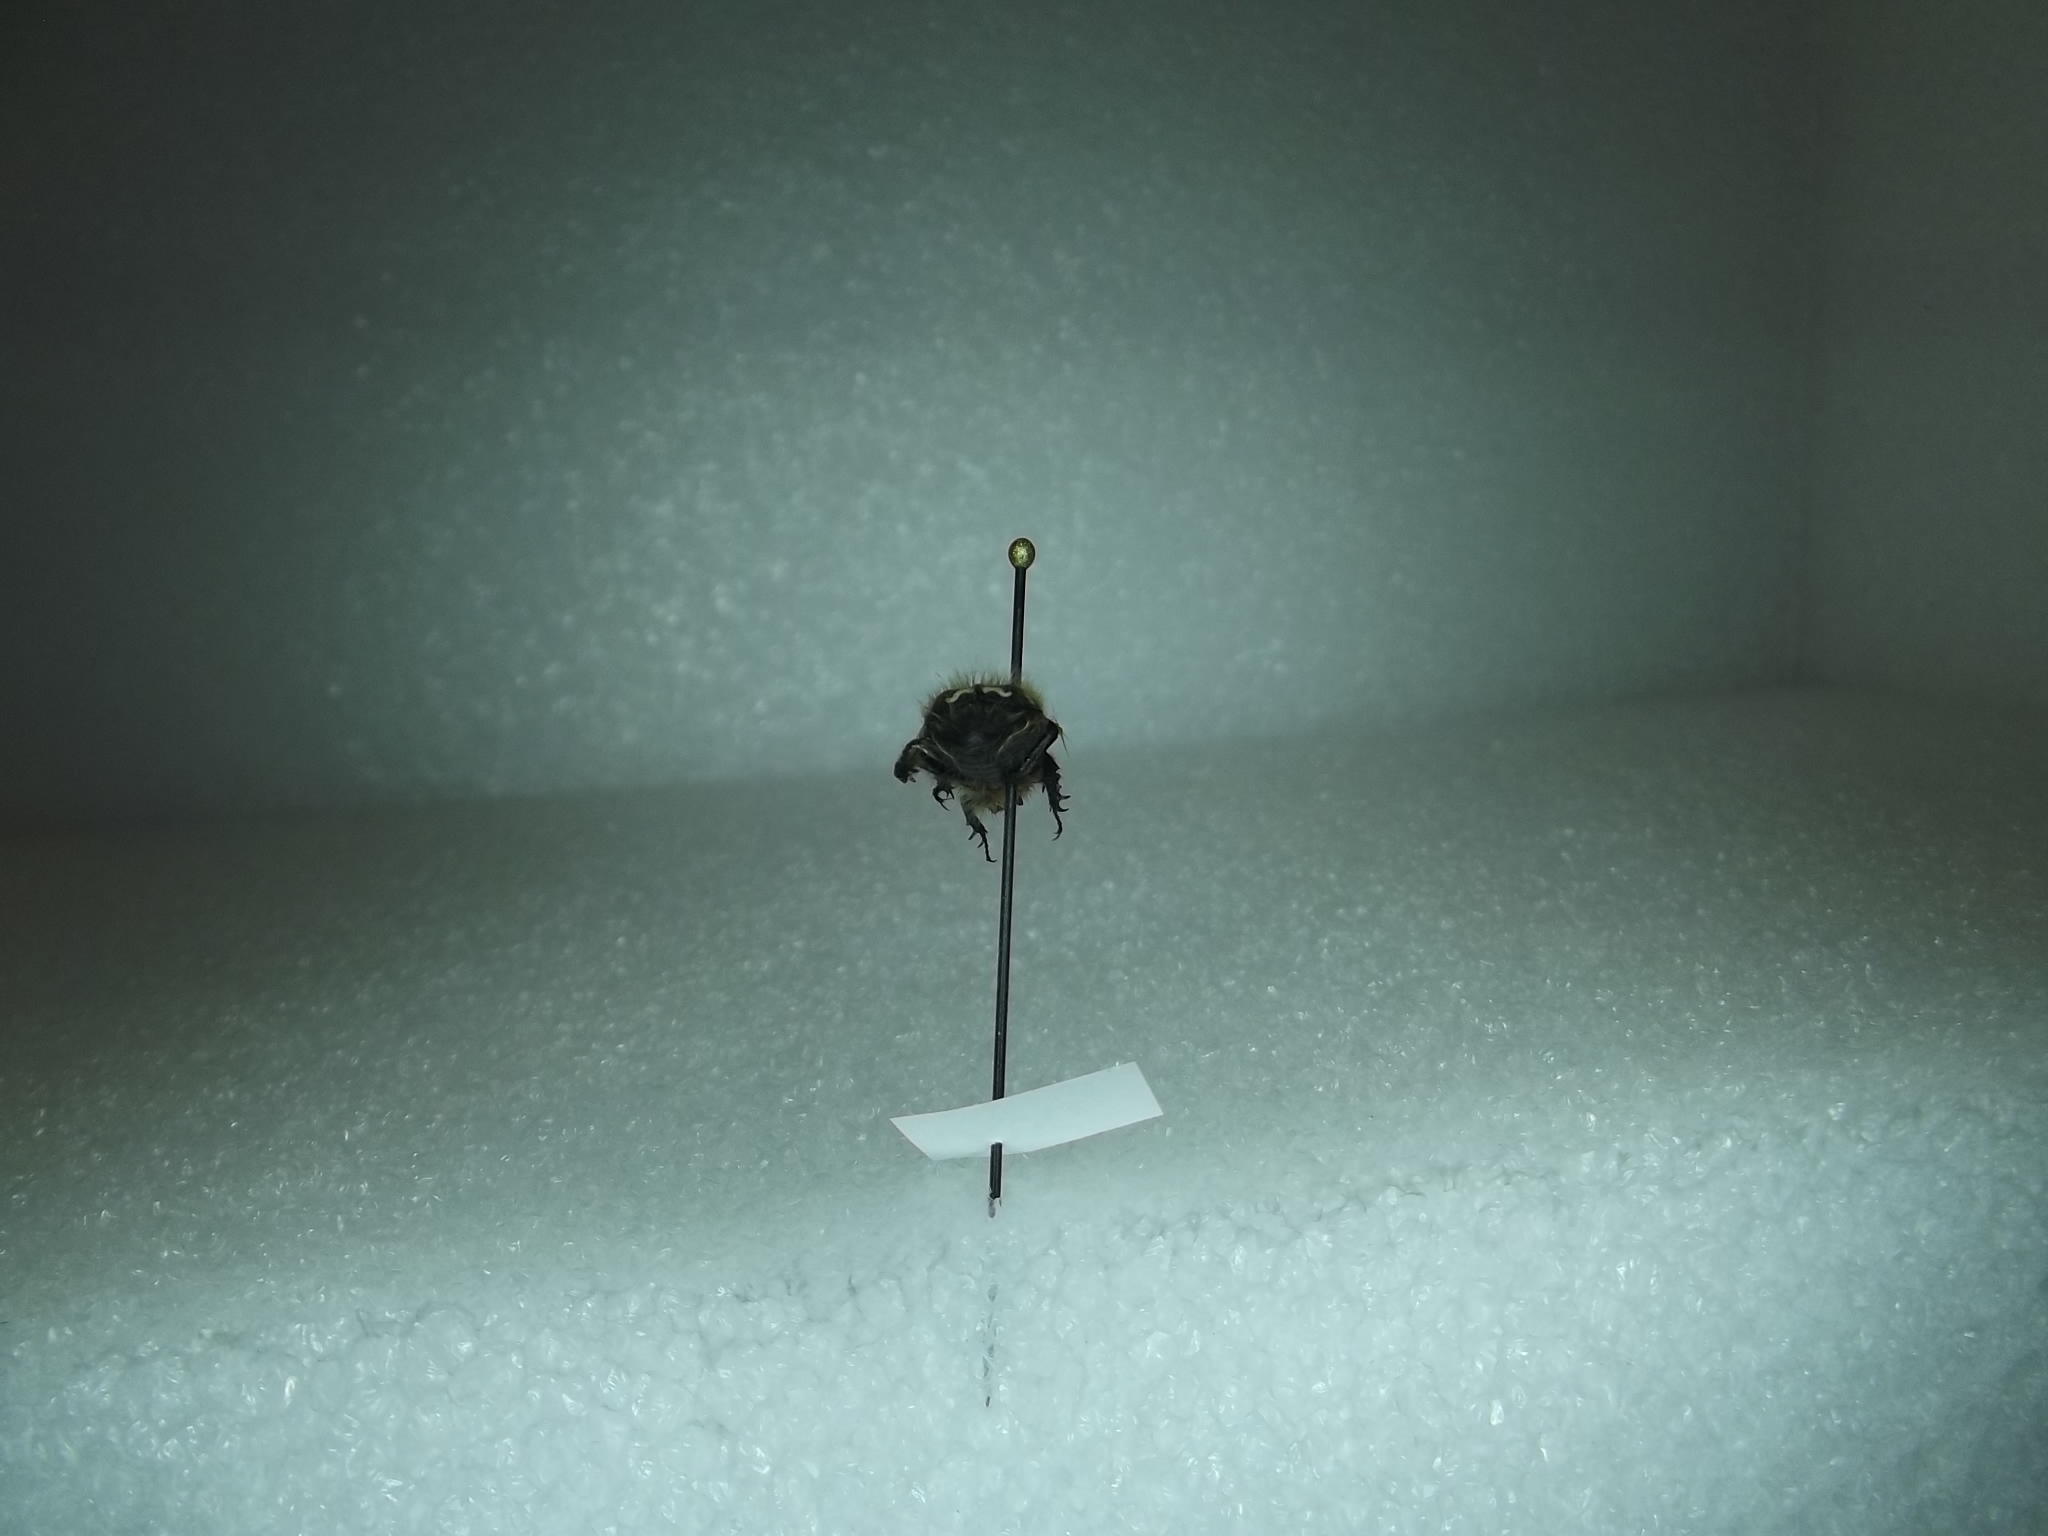Tropinota_hirta: (885, 658, 1080, 879)
